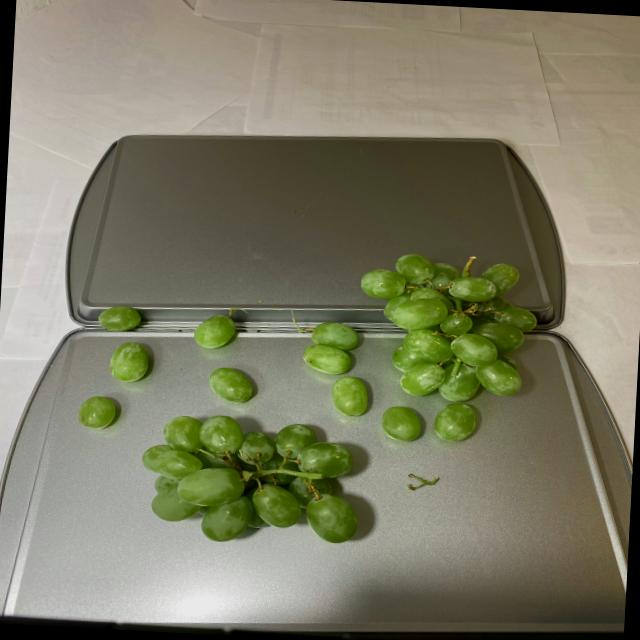grapes: (72, 238, 540, 553)
